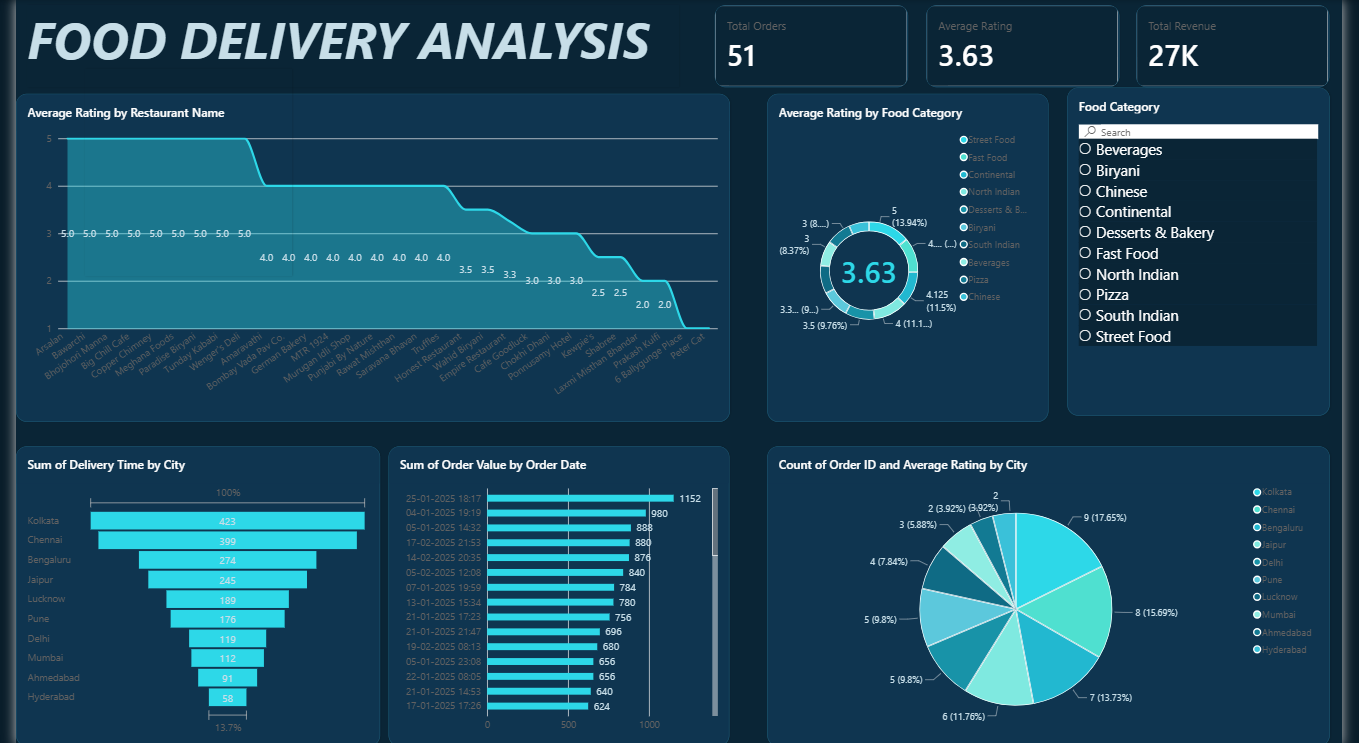

This screenshot's page, from the dashboard's own definition file:
{"tool":"powerbi","page":{"name":"Page 1","canvas":[1920,1080],"ordinal":0},"visuals":[{"type":"cardVisual","fields":{"Data":["Orders.Total Orders"]},"box":[1011.6,7.2,279.9,119.4],"z":0},{"type":"cardVisual","fields":{"Data":["Orders.Average Rating"]},"box":[1317.4,7.2,279.9,119.4],"z":1},{"type":"cardVisual","fields":{"Data":["Orders.Total Revenue"]},"box":[1621.5,7.2,279.9,119.4],"z":2},{"type":"funnel","fields":{"Category":["Orders.City"],"Y":["Sum(Orders.Delivery Time)"]},"box":[0,646.3,526.9,434.3],"z":3},{"type":"clusteredBarChart","fields":{"Category":["Orders.Order Date"],"Y":["Sum(Orders.Order Value)"]},"box":[539.3,646.3,494,434.3],"z":4},{"type":"pieChart","fields":{"Category":["Orders.City"],"Y":["CountNonNull(Orders.Order ID)"]},"box":[1087.6,646,814.4,434.7],"z":5},{"type":"donutChart","fields":{"Category":["Orders.Food Category"],"Y":["Orders.Average Rating"]},"box":[1087.6,135.7,407.2,475.1],"z":6},{"type":"stackedAreaChart","fields":{"Category":["Orders.Restaurant Name"],"Y":["Orders.Average Rating"]},"box":[0,135.8,1033.3,475.5],"z":7},{"type":"listSlicer","fields":{"Values":["Orders.Food Category"]},"box":[1521.9,126.7,379.7,475.1],"z":8},{"type":"textbox","box":[100,100,300,300],"z":9},{"type":"textbox","box":[16.3,7.2,942.8,119.4],"z":10}]}

Visuals, with their boxes in screenshot pixels (x1, y1, x2, y2), scaled from the page's 1920x1080 canvas onto the 1359x743 screenshot:
cardVisual - Orders.Total Orders: region(716, 5, 914, 87)
cardVisual - Orders.Average Rating: region(932, 5, 1131, 87)
cardVisual - Orders.Total Revenue: region(1148, 5, 1346, 87)
funnel - Orders.City x Sum(Orders.Delivery Time): region(0, 445, 373, 742)
clusteredBarChart - Orders.Order Date x Sum(Orders.Order Value): region(382, 445, 731, 742)
pieChart - Orders.City x CountNonNull(Orders.Order ID): region(770, 444, 1346, 742)
donutChart - Orders.Food Category x Orders.Average Rating: region(770, 93, 1058, 420)
stackedAreaChart - Orders.Restaurant Name x Orders.Average Rating: region(0, 93, 731, 421)
listSlicer - Orders.Food Category: region(1077, 87, 1346, 414)
textbox: region(71, 69, 283, 275)
textbox: region(12, 5, 679, 87)
